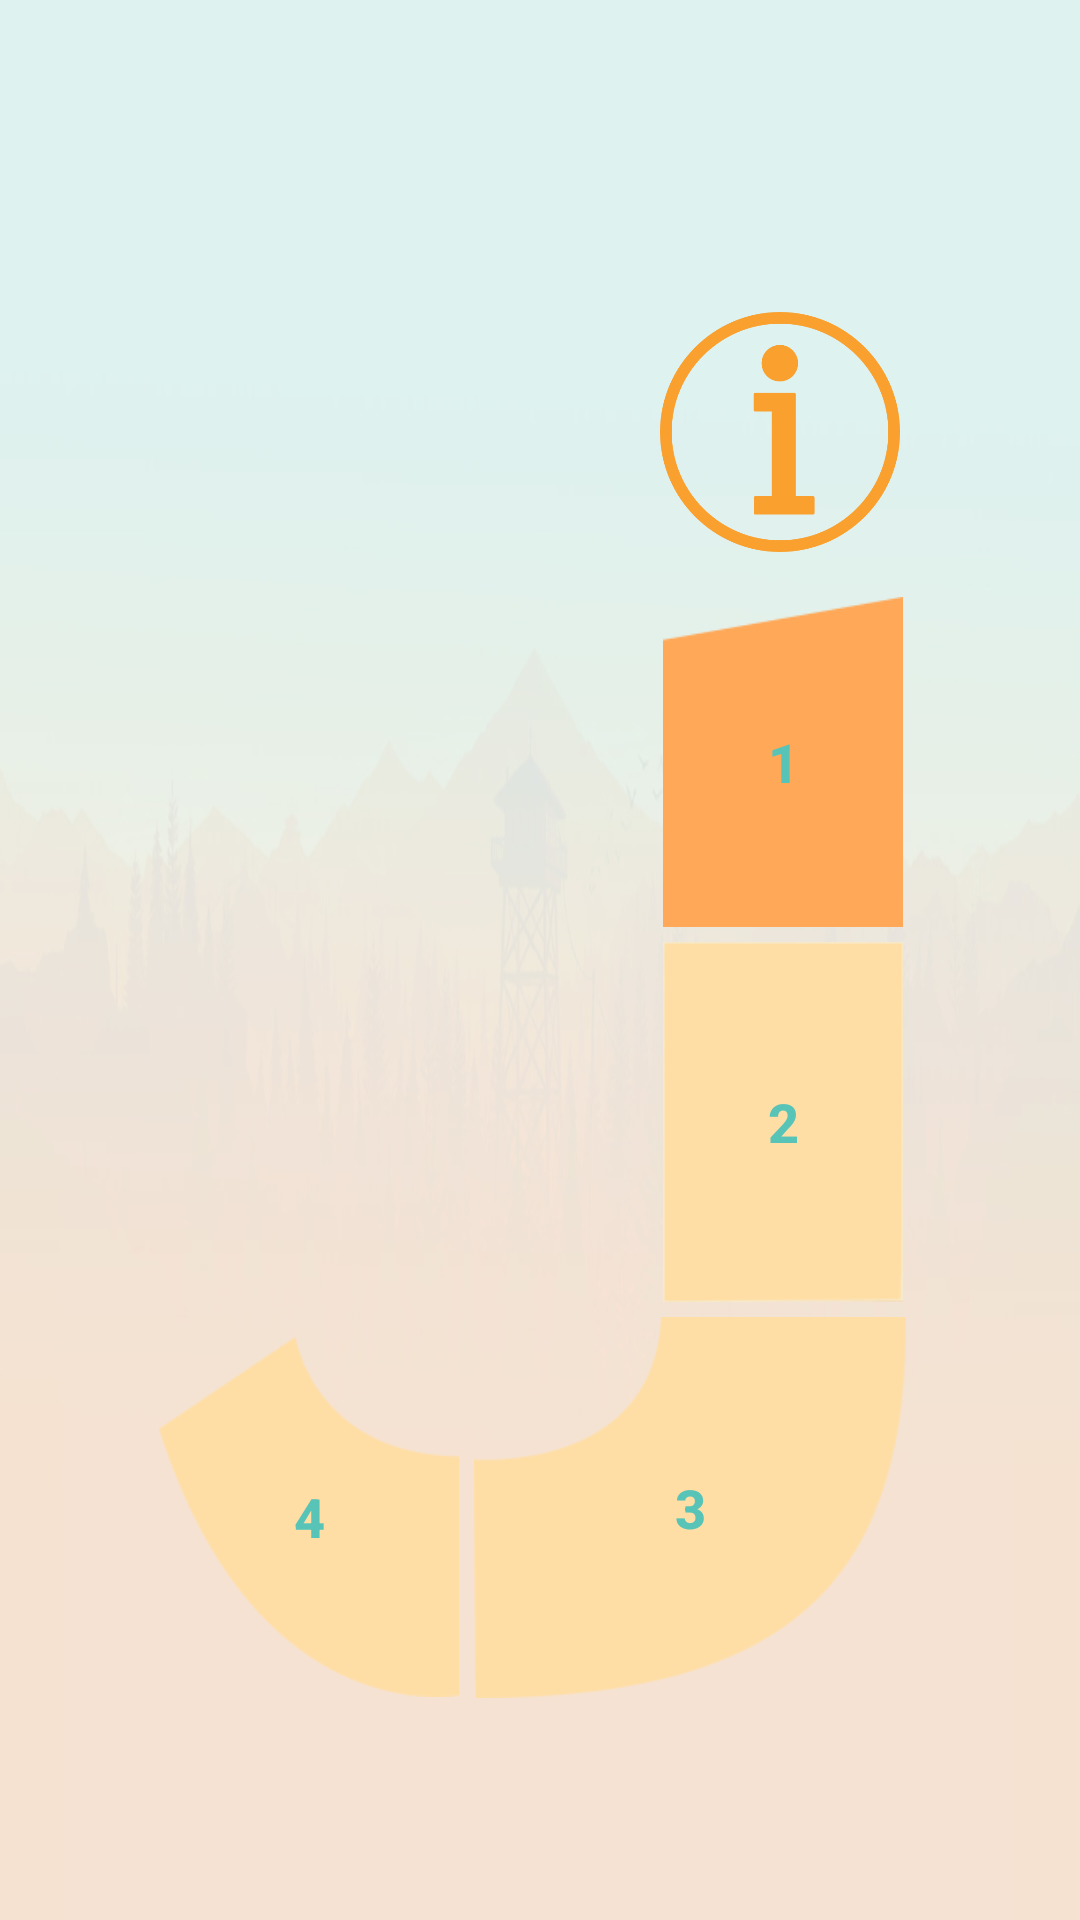

Icon bounding boxes for this 1080px x 1920px phone screenshot, format (x1, y1, x2, y2):
bouton info: (660, 312, 900, 552)
